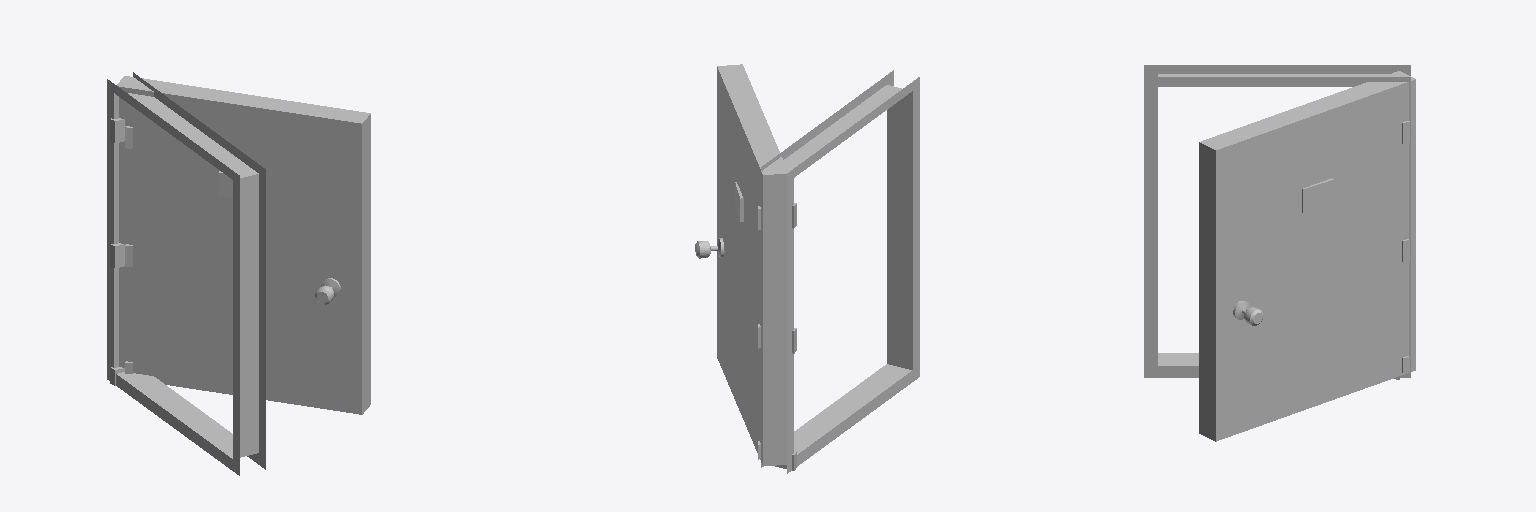
File: Door_3_Open16.obj
The picture shows the model from 3 angles: view 1: azimuth 30°, elevation 25°; view 2: azimuth 150°, elevation 25°; view 3: azimuth 270°, elevation 25°; orthographic projection.
Parts seen in each view (by area): view 1: Shortish_Door, Frame_Door.003; view 2: Shortish_Door, Frame_Door.003; view 3: Shortish_Door, Frame_Door.003.
Part boxes in pixels (bbox=[...]): Shortish_Door: bbox=[117, 76, 370, 414]; Frame_Door.003: bbox=[107, 72, 265, 475]; Shortish_Door: bbox=[695, 64, 788, 466]; Frame_Door.003: bbox=[761, 70, 919, 473]; Shortish_Door: bbox=[1199, 71, 1415, 441]; Frame_Door.003: bbox=[1144, 65, 1410, 379].
Size of the model in its own units: 0.7148 by 1.19 by 0.9786.